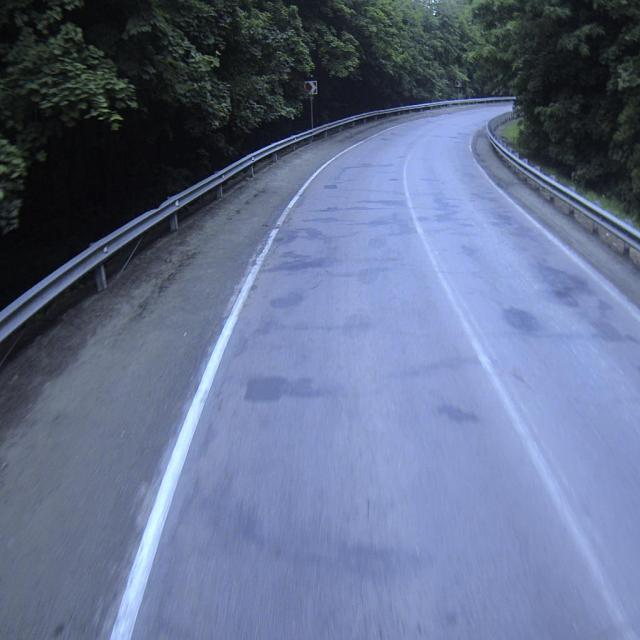road: (83, 102, 640, 639)
